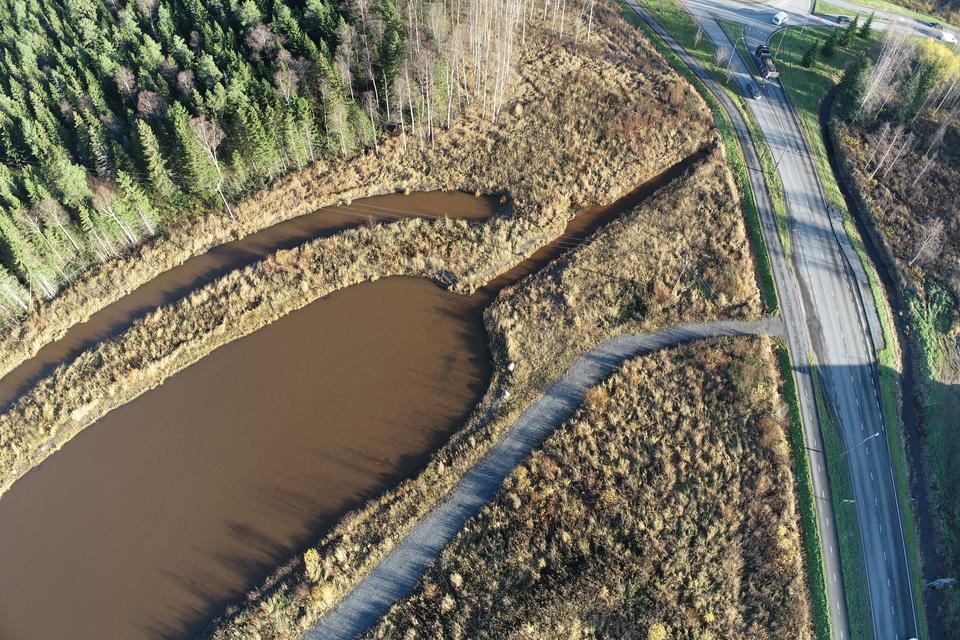intersection: (748, 291, 894, 362)
roundabout: (592, 0, 858, 59)
